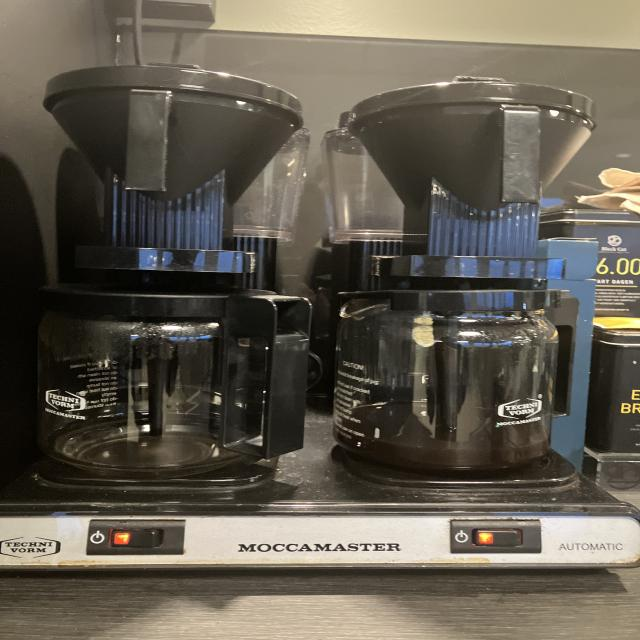coffee: (316, 279, 588, 476)
nocoffee: (36, 281, 305, 484)
